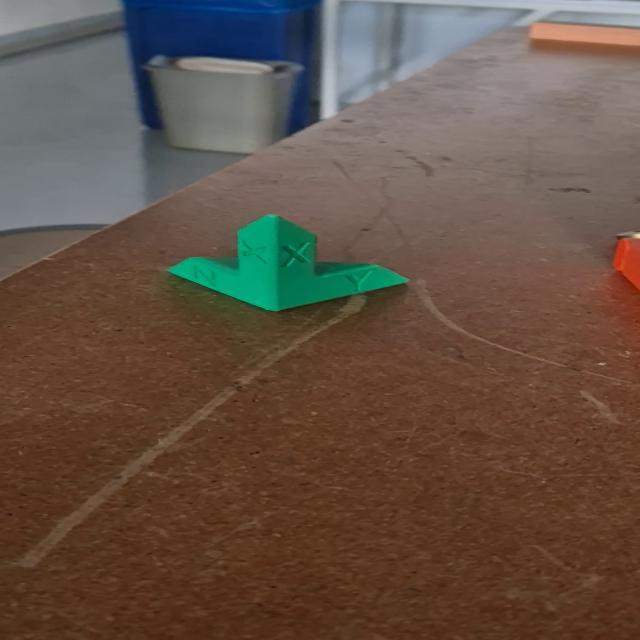objects: (165, 213, 412, 313)
